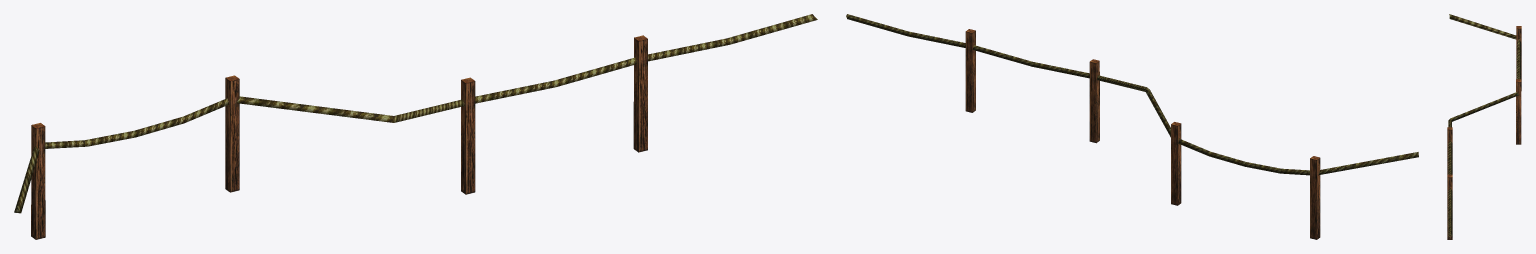
Rendered from LAKETOWN_PUB_PS_PUB_HANDRAIL646__GX.fbx.
The picture shows the model from 3 angles, left to right: view 1: azimuth 30°, elevation 25°; view 2: azimuth 150°, elevation 25°; view 3: azimuth 270°, elevation 25°; orthographic projection. The views are drawn at different scales.
Visible parts, largest first — view 1: LAKETOWN_PUB_PS_PUB_HANDRAIL646__GX; view 2: LAKETOWN_PUB_PS_PUB_HANDRAIL646__GX; view 3: LAKETOWN_PUB_PS_PUB_HANDRAIL646__GX.
Boxes of the visible parts, x1,y1,x2,y2 form: LAKETOWN_PUB_PS_PUB_HANDRAIL646__GX: (14,14,817,239); LAKETOWN_PUB_PS_PUB_HANDRAIL646__GX: (846,14,1418,239); LAKETOWN_PUB_PS_PUB_HANDRAIL646__GX: (1447,14,1521,239).
Size of the model in its own units: 71463 by 9503 by 10201.
Materials: 3 (3 with a texture image).
